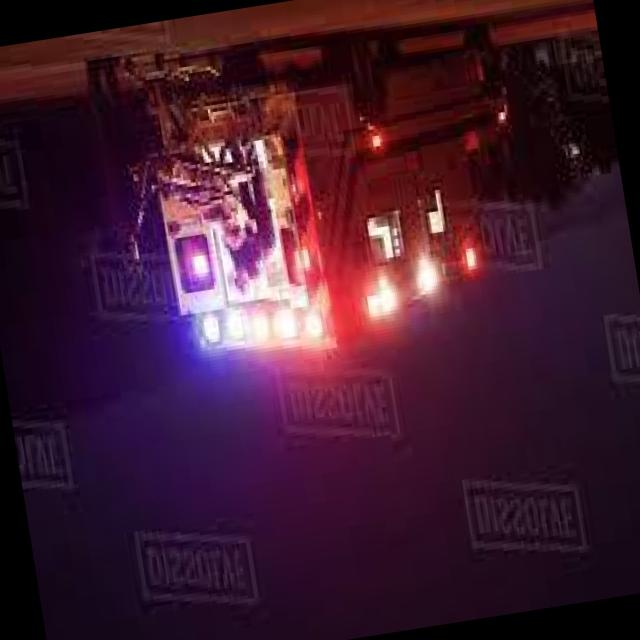ambulance: (175, 208, 506, 374)
